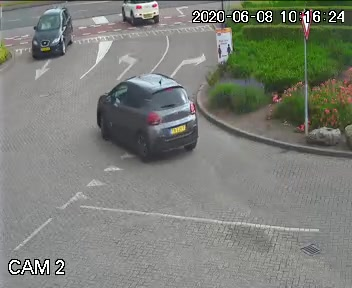car: (89, 65, 204, 174), (25, 2, 81, 61), (117, 0, 166, 30)
